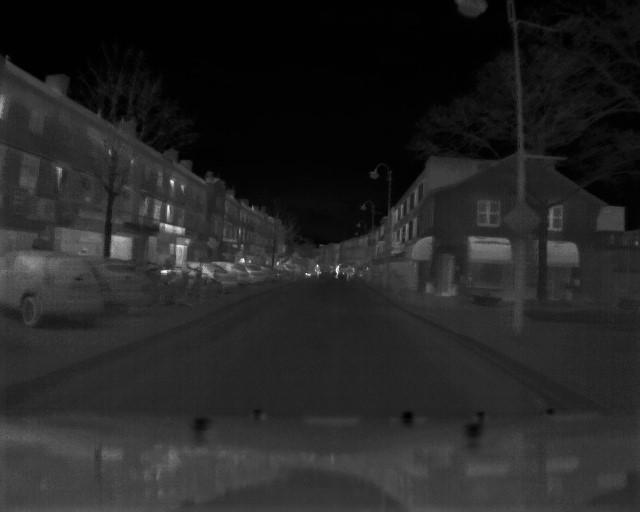car: (8, 245, 96, 321), (112, 256, 158, 309), (188, 258, 235, 291), (243, 260, 268, 285)
person: (314, 260, 326, 277), (335, 261, 342, 276)
